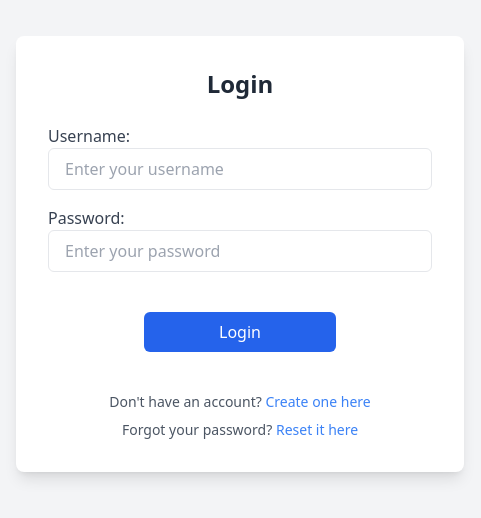
Test: LoginForm Component › should show an error message if login fails
The image size is (481, 518).
# Fill in the username and password fields
Type "testuser" into the field labelled "Username:".
click(240, 169); type("testuser")  # box [48,148,432,190]
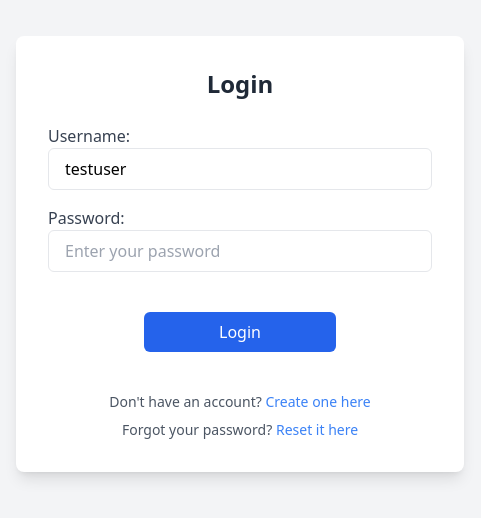
Type "wrongpassword" into the password field labelled "Password:".
click(240, 251); type("wrongpassword")  # box [48,230,432,272]
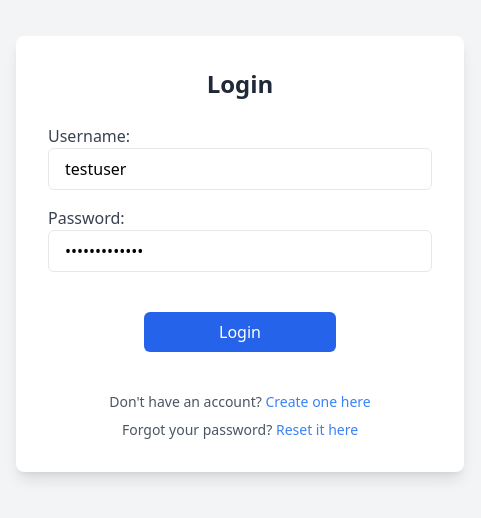
# Submit the form
Click the button "Login".
click(240, 332)  # box [144,312,336,352]
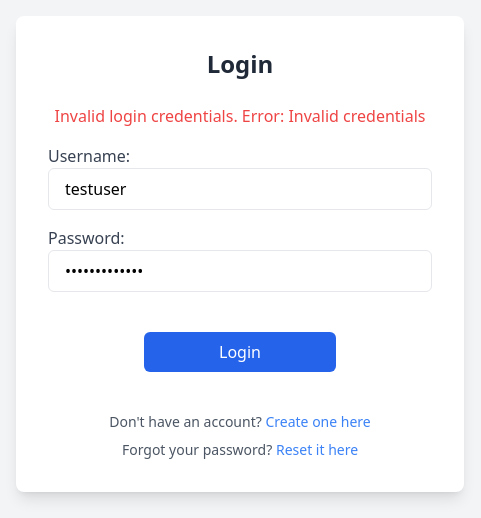
Expected: the text "Invalid login credentials. Error: Invalid credentials" is shown, [48,104,432,128]
